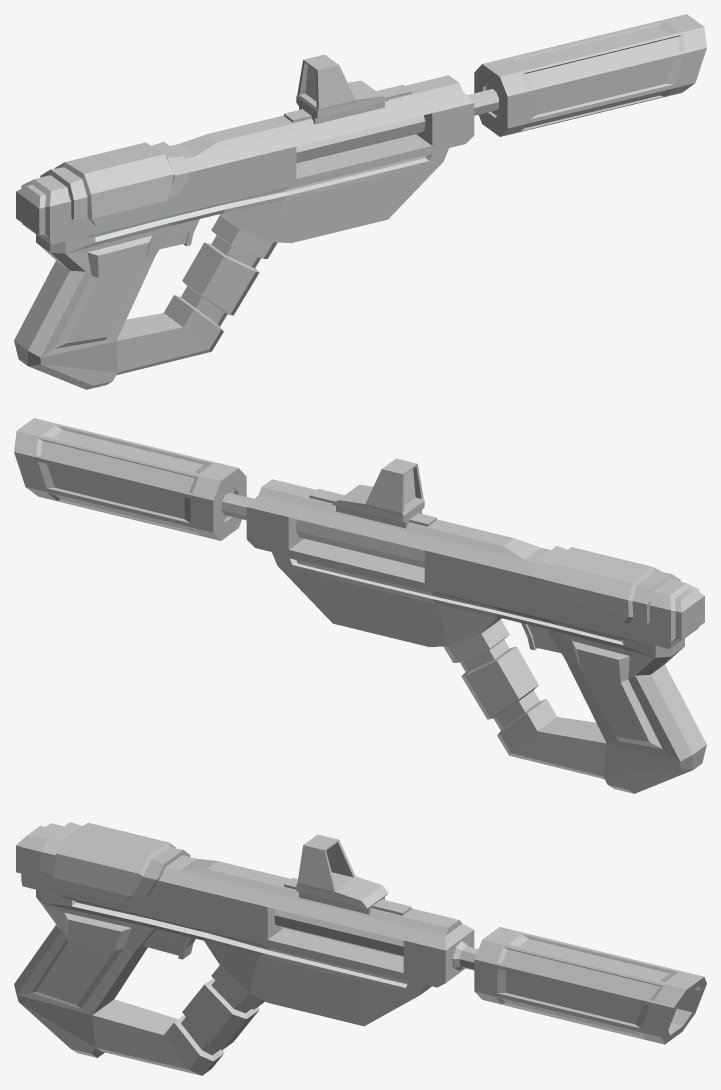
The model's file is SM_Sci_FiWeapon_HandGun.fbx.
3 views of the same model, one above another, from view 1: azimuth 30°, elevation 25°; view 2: azimuth 150°, elevation 25°; view 3: azimuth 330°, elevation 25° (orthographic).
Parts seen in each view (by area): view 1: SM_Sci_FiWeapon_HandGun; view 2: SM_Sci_FiWeapon_HandGun; view 3: SM_Sci_FiWeapon_HandGun.
Boxes of the visible parts, x1=… form: SM_Sci_FiWeapon_HandGun: x1=14, y1=14, x2=706, y2=389; SM_Sci_FiWeapon_HandGun: x1=14, y1=418, x2=706, y2=793; SM_Sci_FiWeapon_HandGun: x1=14, y1=822, x2=706, y2=1075.
Bounding box in the file's own units: 53.86 × 20.27 × 5.35.
